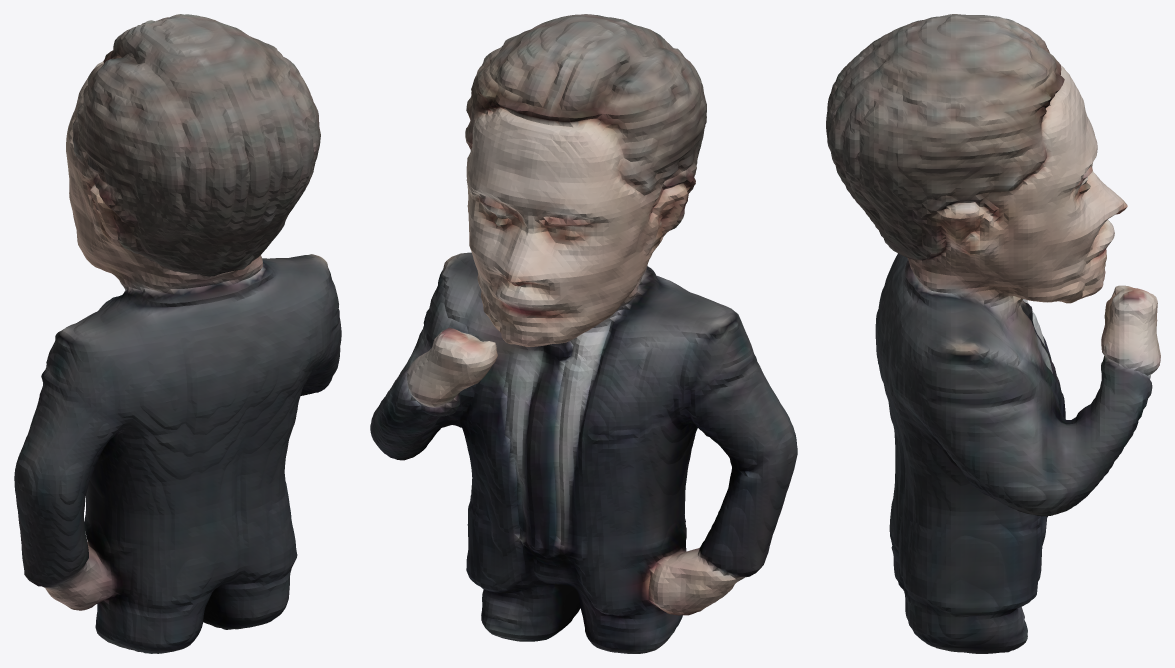
The picture shows the model from 3 angles, left to right: view 1: azimuth 30°, elevation 25°; view 2: azimuth 150°, elevation 25°; view 3: azimuth 270°, elevation 25°; orthographic projection.
Visible parts, largest first — view 1: world; view 2: world; view 3: world.
Boxes of the visible parts, box(x1,y1,x2,y2) form: world: box(14, 14, 341, 653); world: box(370, 14, 797, 653); world: box(826, 14, 1160, 653).
Size of the model in its own units: 0.5725 by 0.9367 by 0.475.
